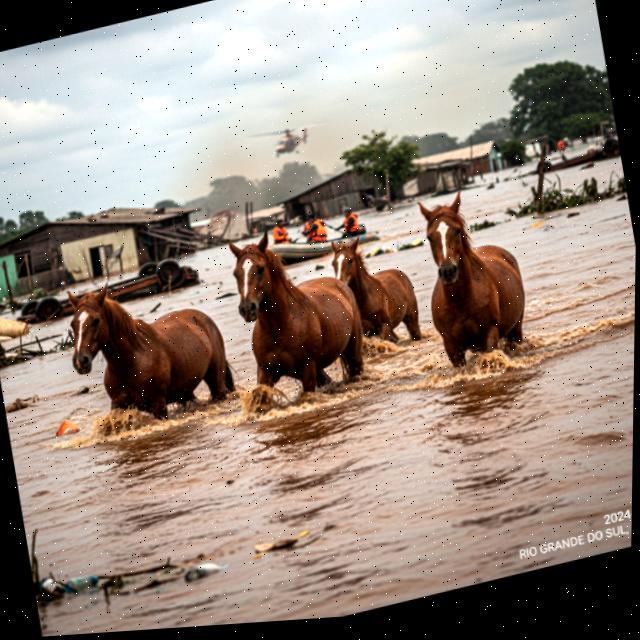civilian: (51, 245, 251, 446), (210, 203, 376, 412), (394, 167, 554, 381), (318, 219, 431, 371)
rescuer: (268, 213, 296, 249), (336, 200, 361, 240), (304, 213, 328, 245)
